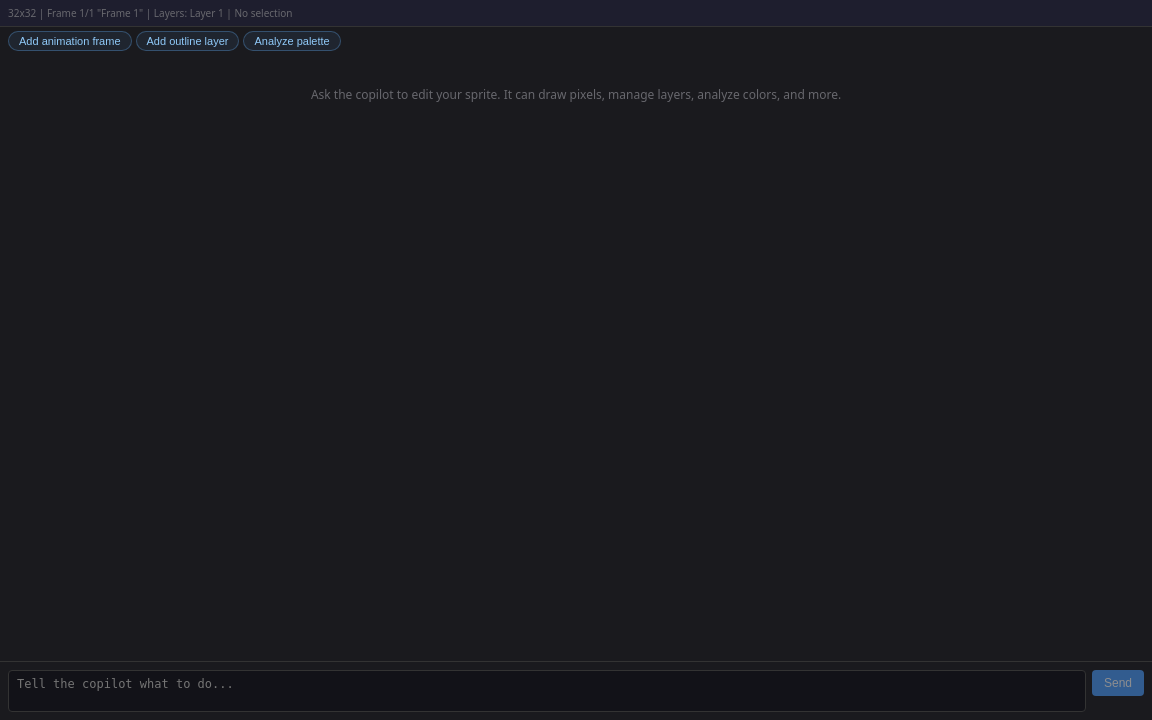
Test: CopilotPanel › supports multi-turn tool chains
Type "Create an outline layer and draw" into the text box with test id "copilot-input".
click(547, 691); type("Create an outline layer and draw")  # box x1=8 y1=670 x2=1086 y2=712
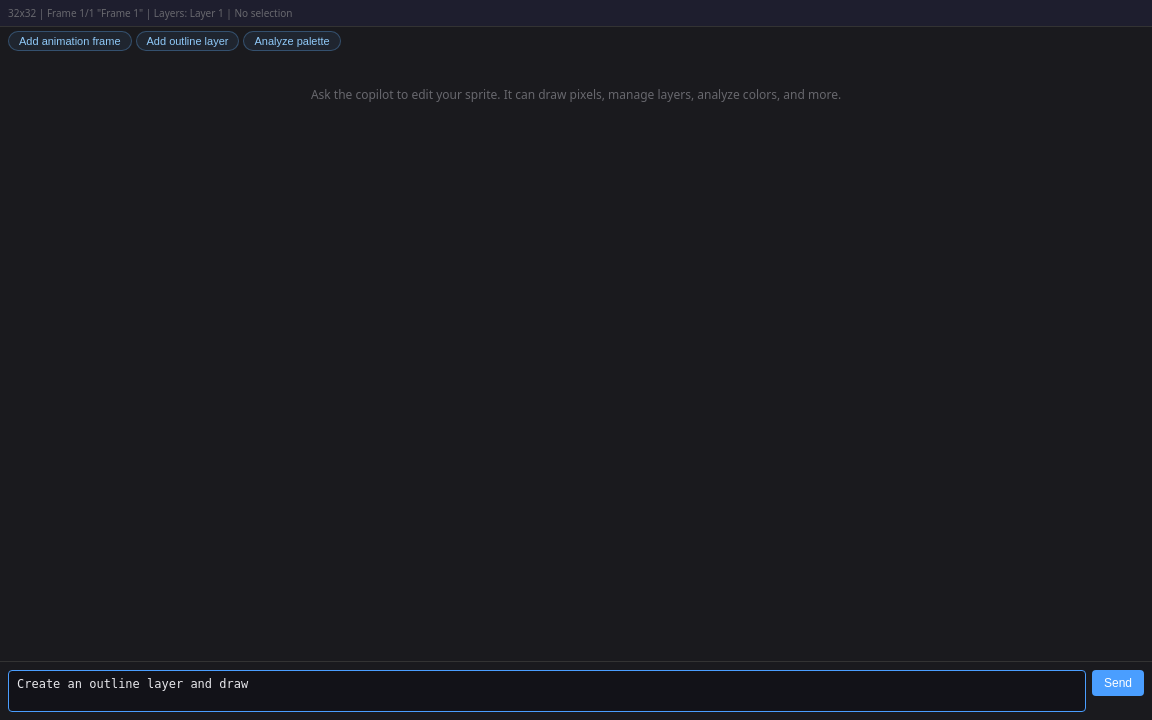
Click the button with test id "send-btn".
click(1118, 683)  # box x1=1092 y1=670 x2=1144 y2=696
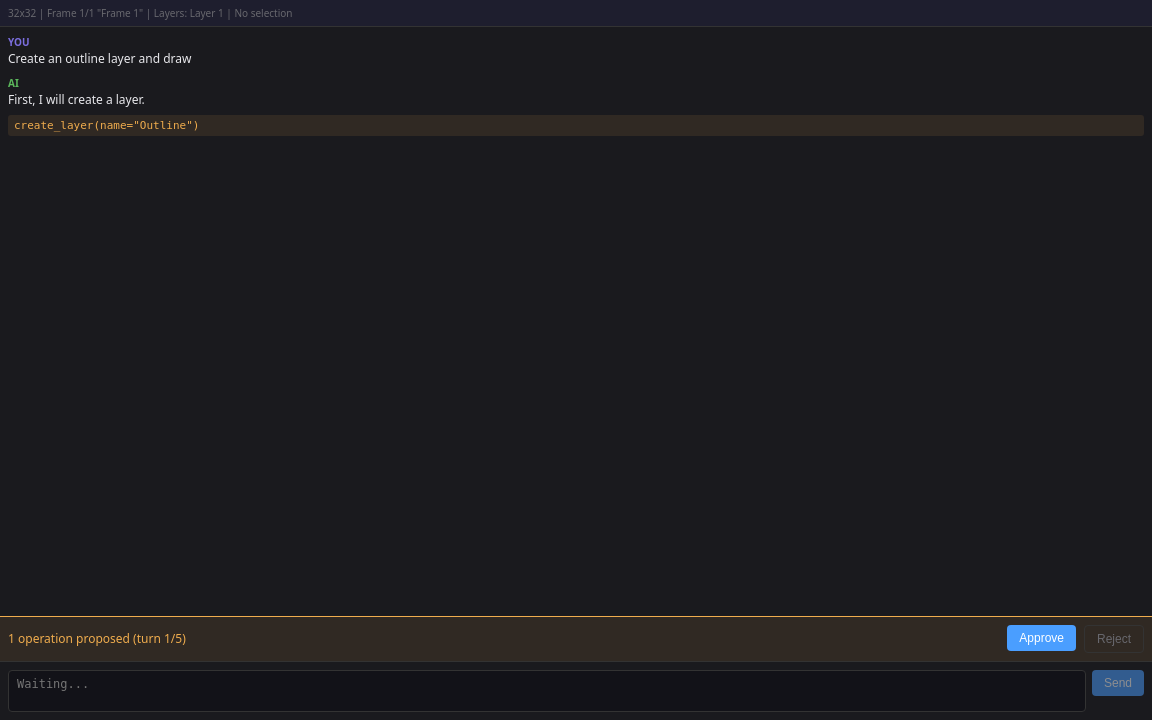
Expected: the button with test id "approve-btn" is shown
Expected: the text "First, I will create a layer." is shown, x1=8 y1=91 x2=145 y2=108
Click the button with test id "approve-btn".
click(1042, 638)  # box x1=1007 y1=625 x2=1076 y2=651
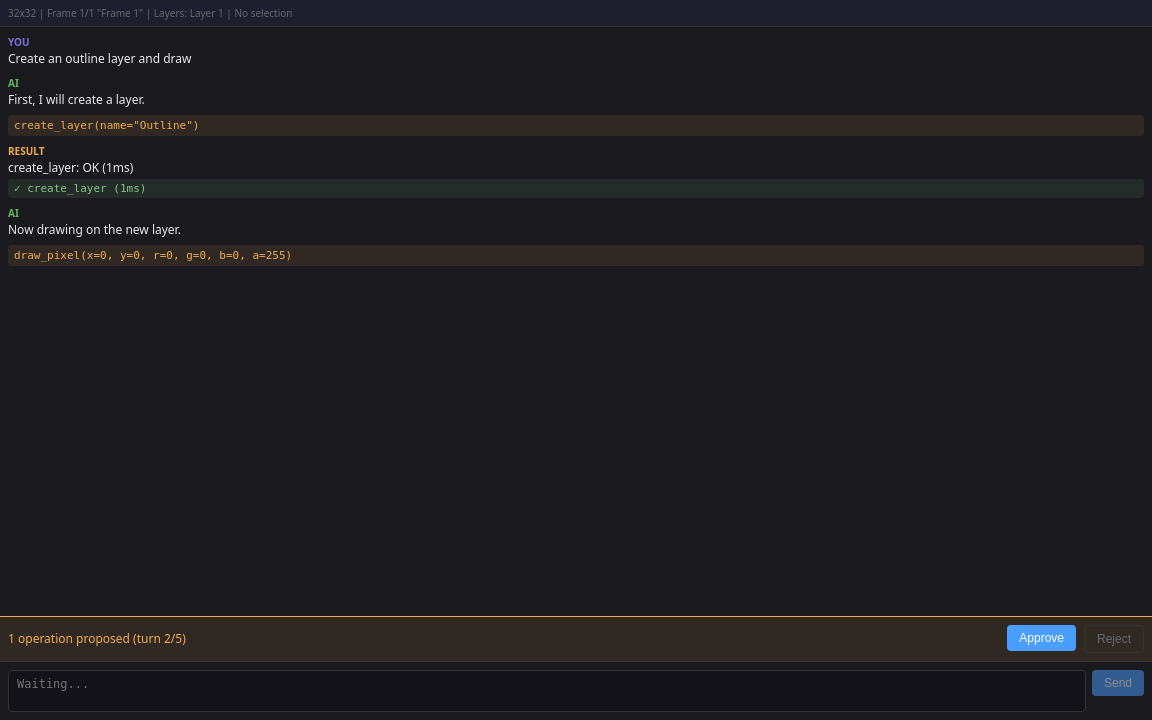
Expected: the button with test id "approve-btn" is shown
Expected: the text "Now drawing on the new layer." is shown, x1=8 y1=221 x2=181 y2=238
Click the button with test id "approve-btn".
click(1042, 638)  # box x1=1007 y1=625 x2=1076 y2=651
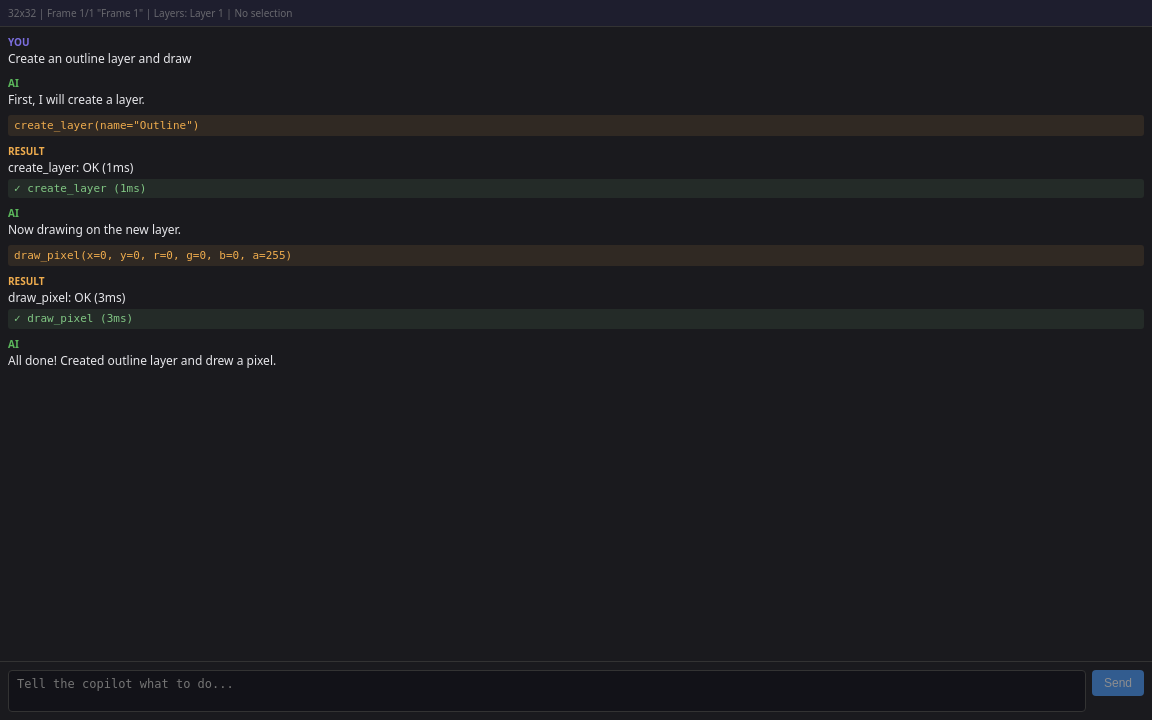
Expected: the text "All done! Created outline layer and drew a pixel." is shown, x1=8 y1=352 x2=276 y2=368
